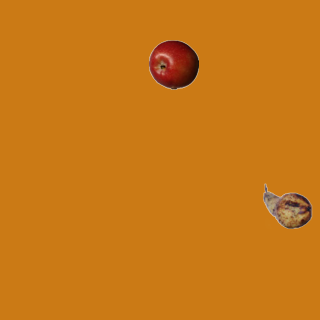Apple Braeburn: (148, 39, 198, 89)
Pear Abate: (262, 181, 312, 231)
